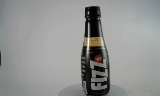appyfizz: (72, 6, 103, 95)
